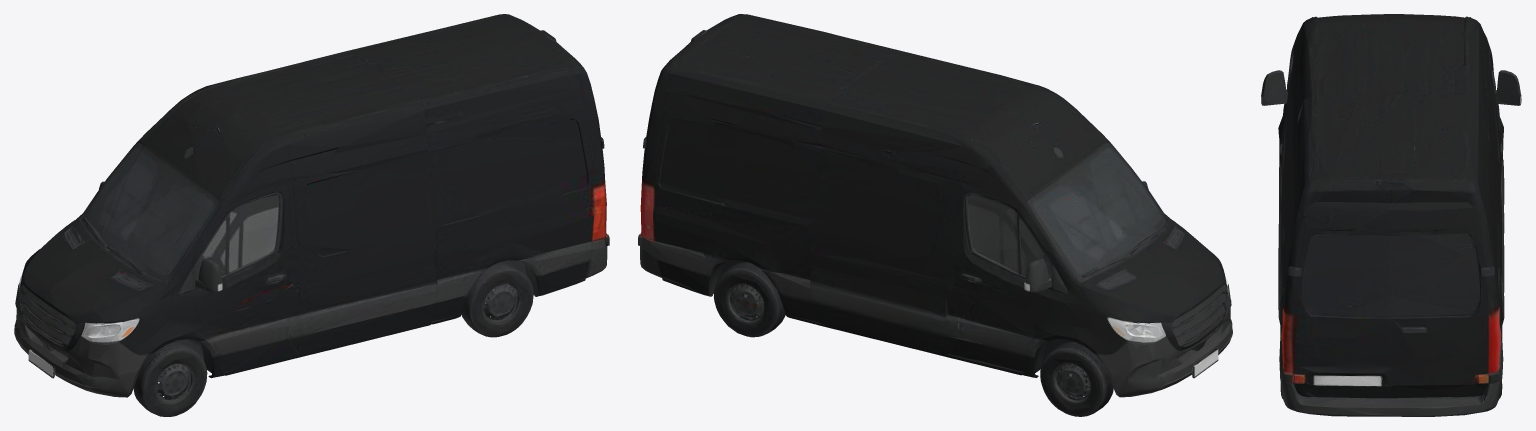
Rendered from van.glb.
The picture shows the model from 3 angles, left to right: view 1: azimuth 30°, elevation 25°; view 2: azimuth 150°, elevation 25°; view 3: azimuth 270°, elevation 25°; orthographic projection. The views are drawn at different scales.
Bounding box in the file's own units: 1.9 × 0.8343 × 0.7355.
Materials: 1 (1 with a texture image).
